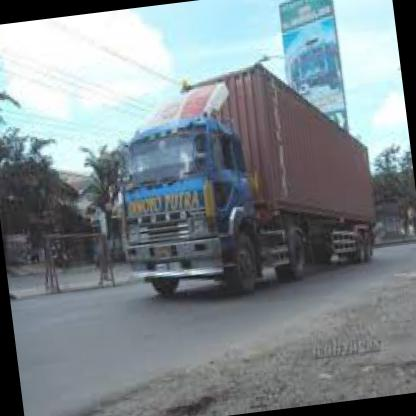truck: (112, 111, 269, 314)
